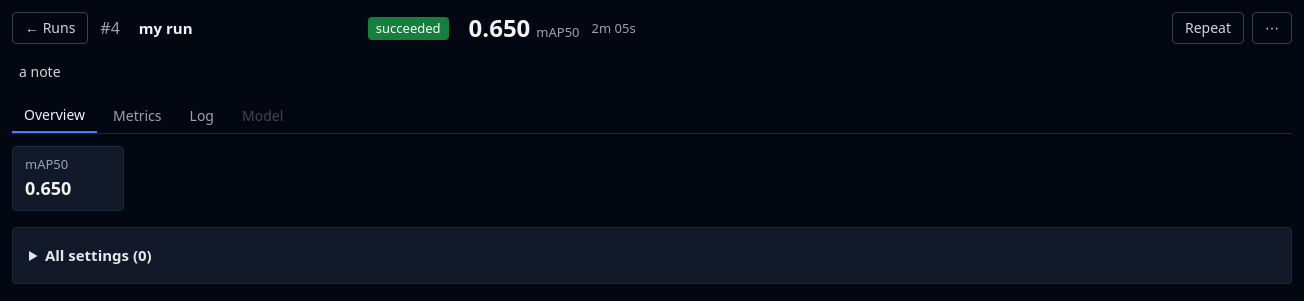
Scenario: RunDetail › menu: focus moves in, Escape closes and returns focus and disarms, outside click closes
Click the button named "More actions" at (1272, 28), box [1252,12,1292,44]
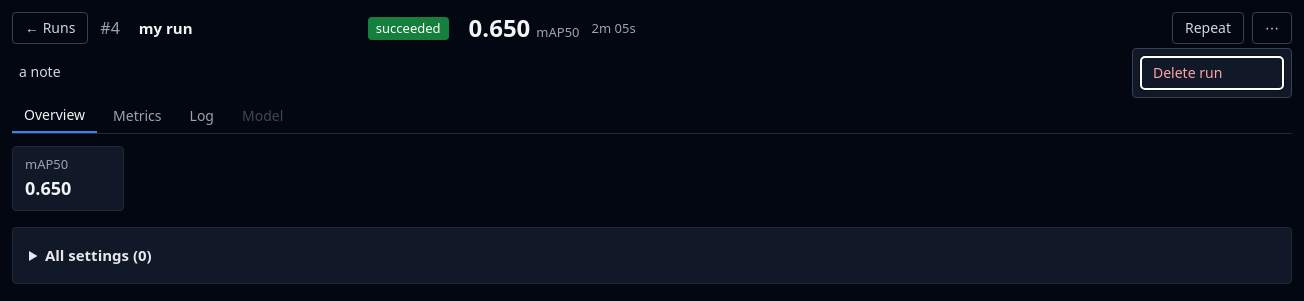
Click the menu item with aria-label "Delete run #4" at (1212, 73), box [1141,57,1283,89]
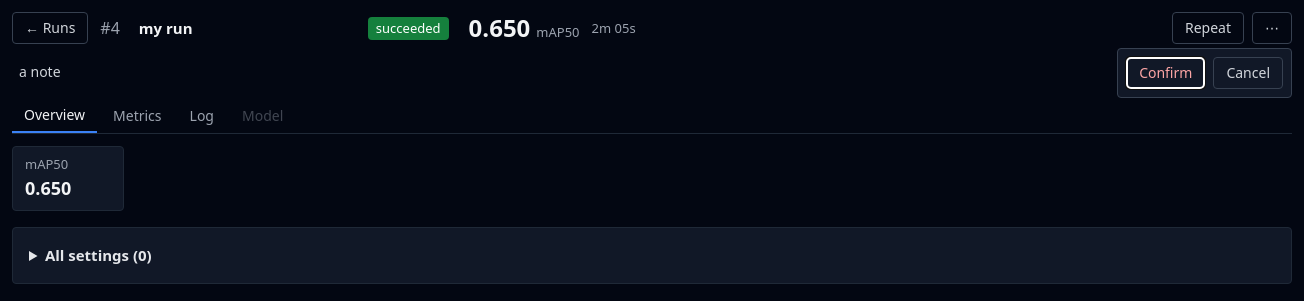
expect the menu item with aria-label "Confirm delete run #4" is shown: met, box [1126,57,1205,89]
Press Escape
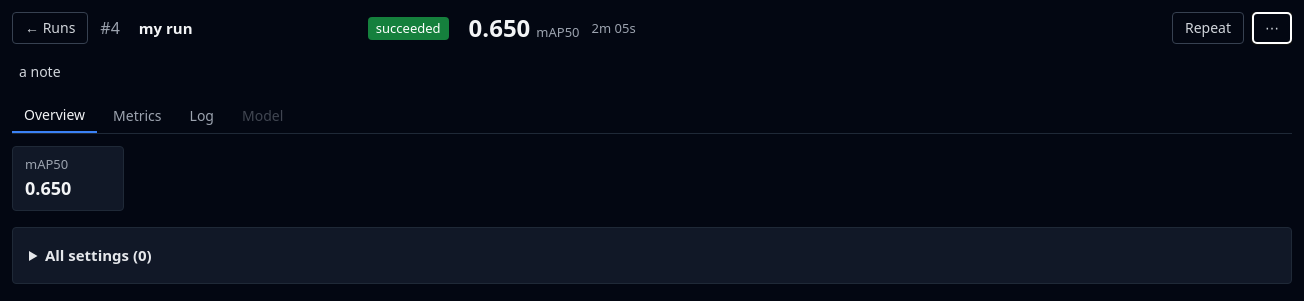
expect the menu is gone: met
Click the button named "More actions" at (1272, 28), box [1252,12,1292,44]
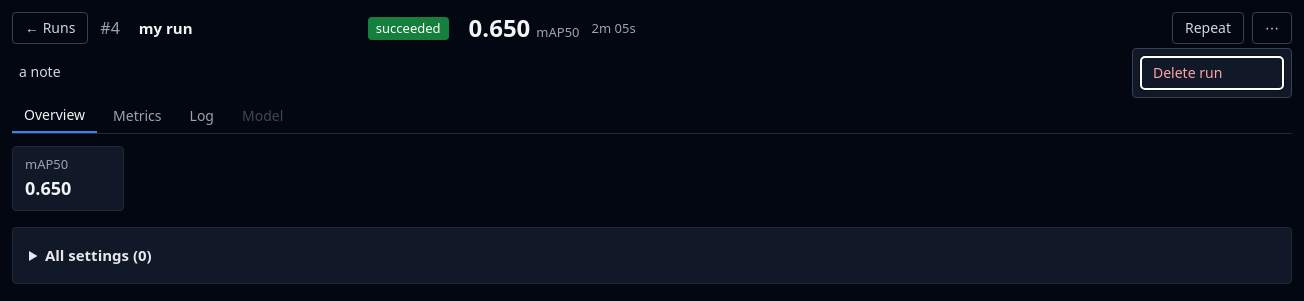
expect the menu item with aria-label "Delete run #4" is shown: met, box [1141,57,1283,89]
Click the element that starts with "← Runs" at (652, 148), box [12,12,1292,284]
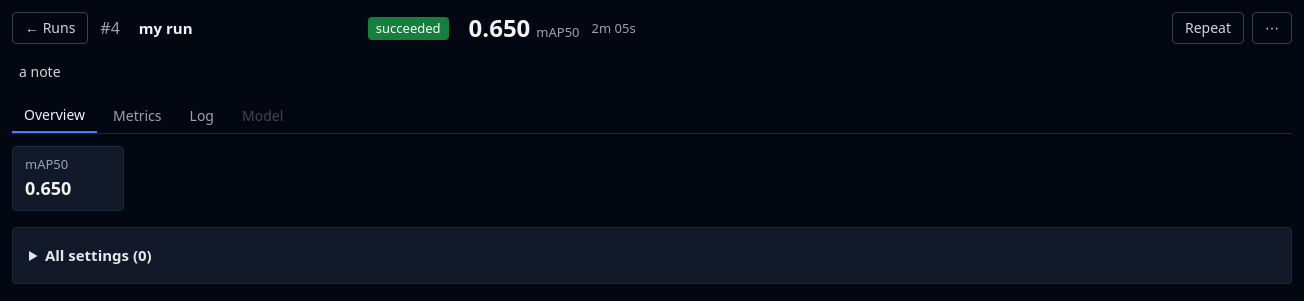
expect the menu is gone: met
